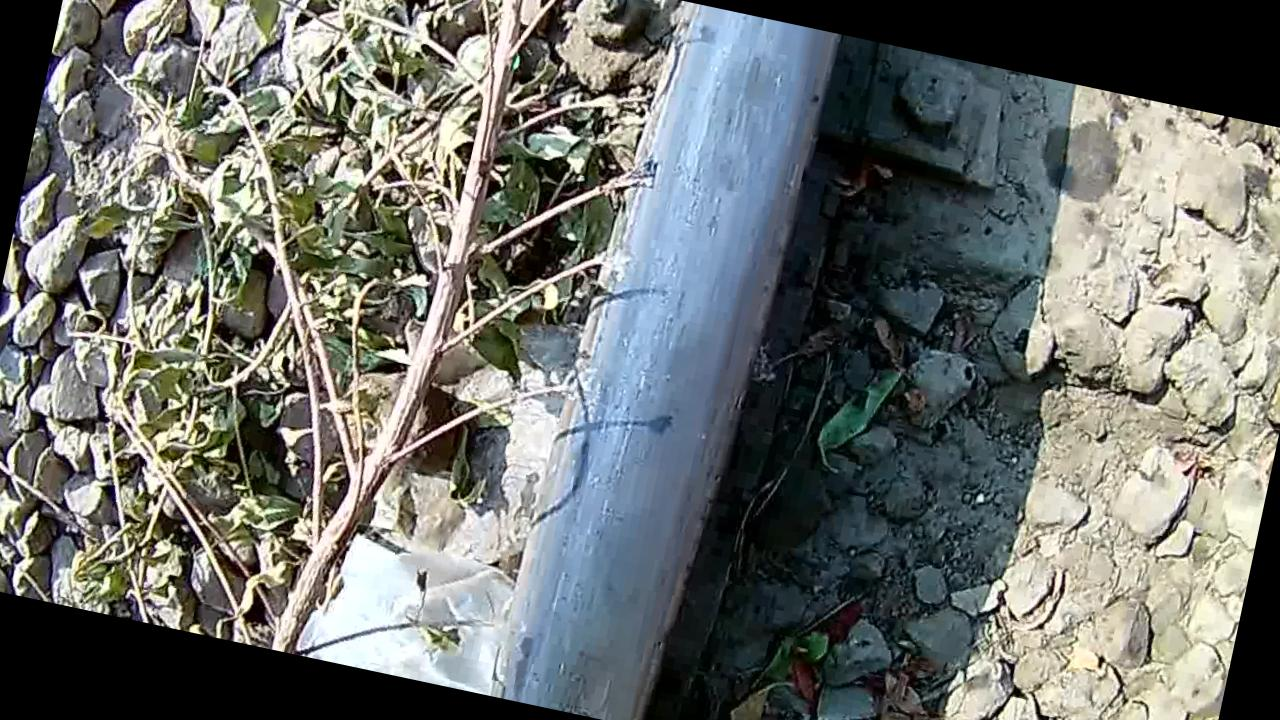bolt_missing: (537, 5, 818, 720)
